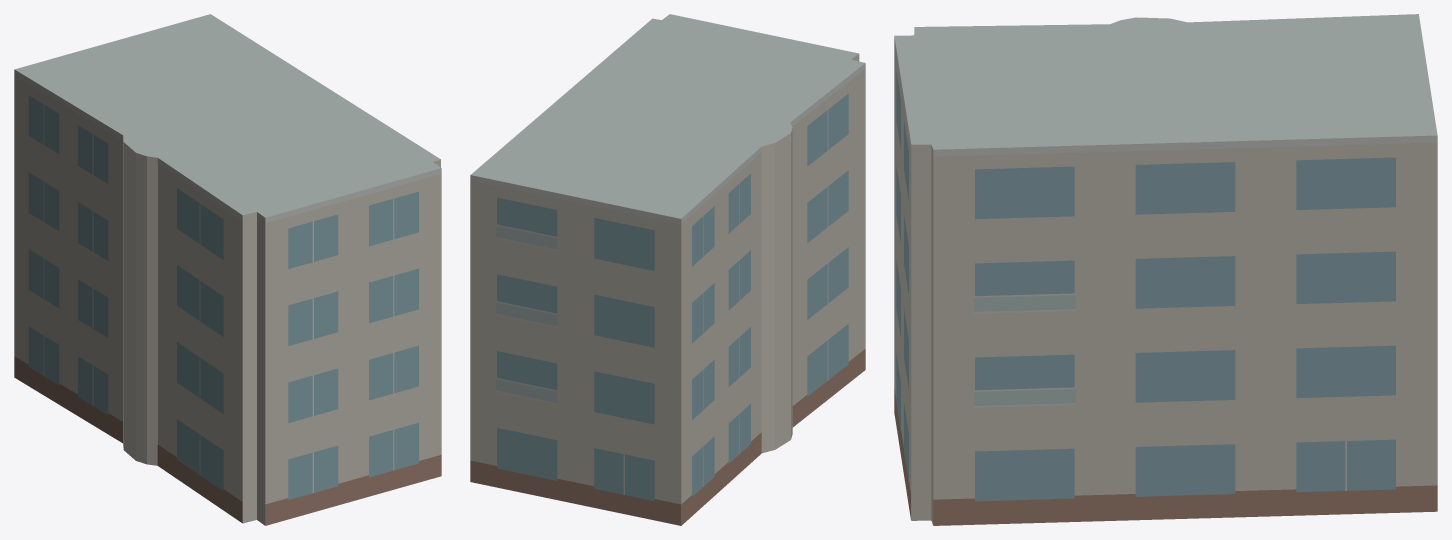
File: survey-upis-32641902.glb
3 renders of one model, left to right at view 1: azimuth 30°, elevation 25°; view 2: azimuth 150°, elevation 25°; view 3: azimuth 270°, elevation 25°, orthographic. The views are drawn at different scales.
Visible parts, largest first — view 1: survey-upis-32641902.tmp; view 2: survey-upis-32641902.tmp; view 3: survey-upis-32641902.tmp.
Boxes of the visible parts, x1=… form: survey-upis-32641902.tmp: x1=14, y1=14, x2=441, y2=525; survey-upis-32641902.tmp: x1=470, y1=14, x2=865, y2=525; survey-upis-32641902.tmp: x1=894, y1=14, x2=1437, y2=525.
Size of the model in its own units: 10.22 by 13.2 by 17.29.
